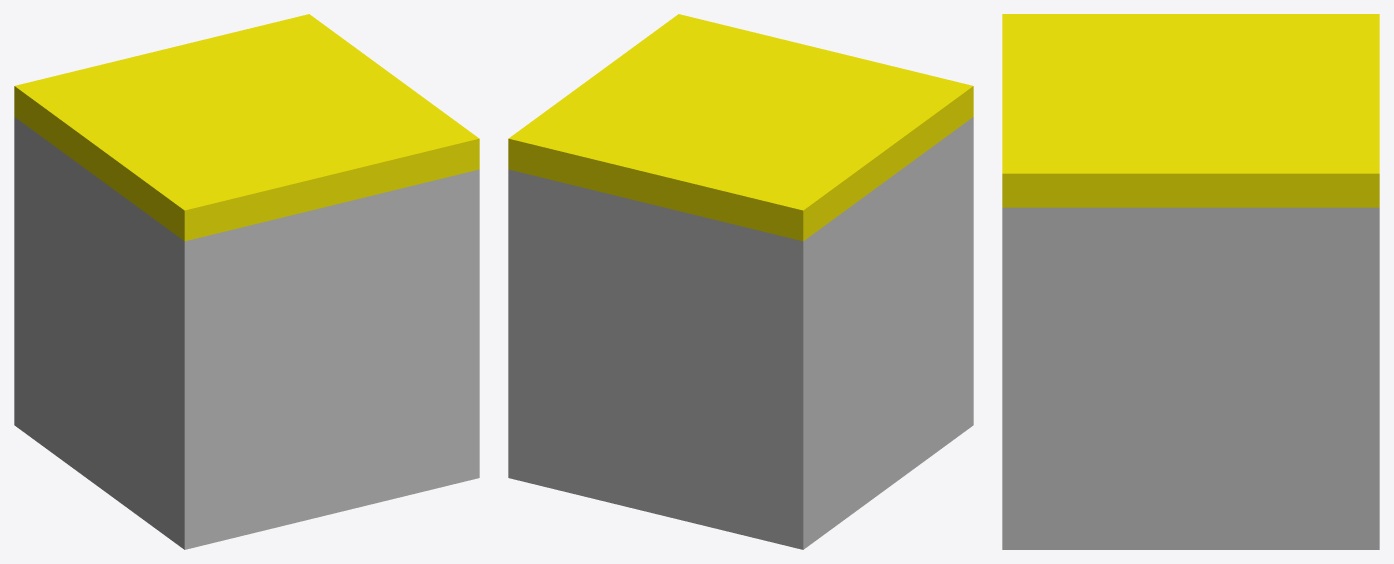
Rendered from GlassBlock.fbx.
3 views of the same model, side by side, from view 1: azimuth 30°, elevation 25°; view 2: azimuth 150°, elevation 25°; view 3: azimuth 270°, elevation 25° (orthographic). The views are drawn at different scales.
Parts seen in each view (by area): view 1: Soil, Grass; view 2: Soil, Grass; view 3: Soil, Grass.
Part boxes in pixels (left/top/right/bottom): Soil: left=14, top=117, right=479, bottom=549; Grass: left=14, top=14, right=479, bottom=241; Soil: left=508, top=117, right=973, bottom=549; Grass: left=508, top=14, right=973, bottom=241; Soil: left=1002, top=207, right=1379, bottom=549; Grass: left=1002, top=14, right=1379, bottom=207.
Bounding box in the file's own units: 118 × 130 × 118.
